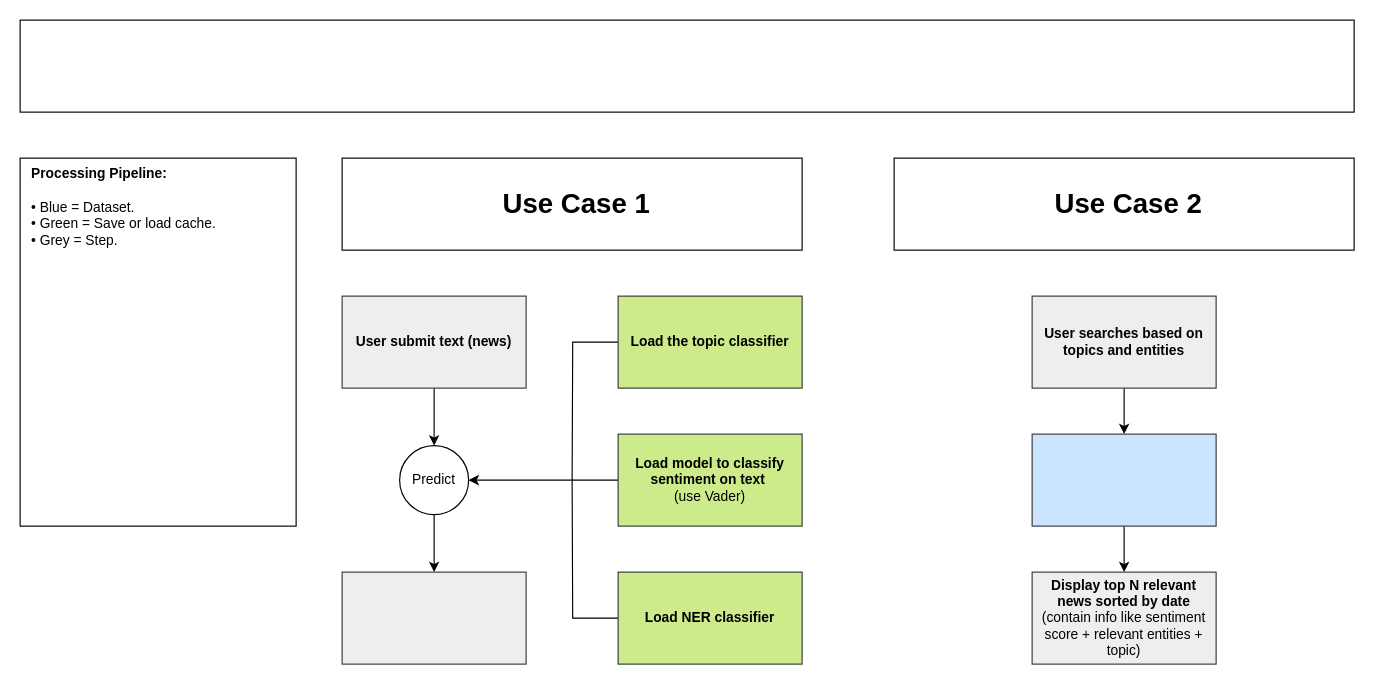
Image size: 1374x684. Some labels were removed from this diagram. The shapes that lost their labels are listed below. From the top down, each one's centre as x and y in pixels, then its label:
(686,65): App:
(1123,479): Read from "database" efficiently
(433,617): Display topics + sentiment score + entities
